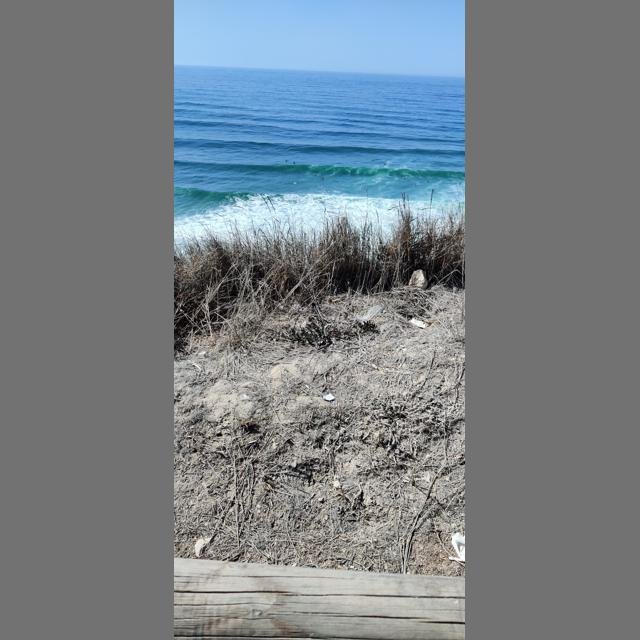litter: (357, 305, 385, 323), (452, 533, 466, 563), (411, 319, 427, 328), (324, 393, 336, 401), (449, 557, 464, 562)
